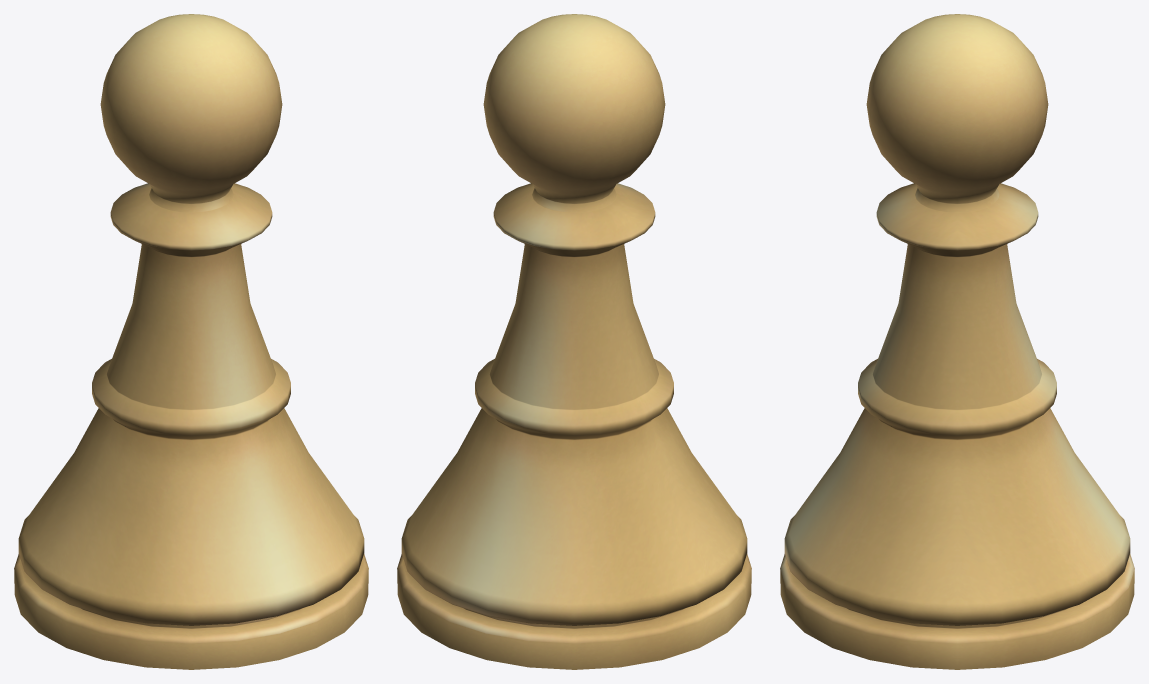
3 views of the same model, side by side, from view 1: azimuth 30°, elevation 25°; view 2: azimuth 150°, elevation 25°; view 3: azimuth 270°, elevation 25° (orthographic).
Visible parts, largest first — view 1: model; view 2: model; view 3: model.
Part boxes in pixels (left/top/right/bottom): model: left=14, top=14, right=368, bottom=669; model: left=397, top=14, right=751, bottom=669; model: left=780, top=14, right=1134, bottom=669.
Size of the model in its own units: 69.52 by 69.52 by 124.
